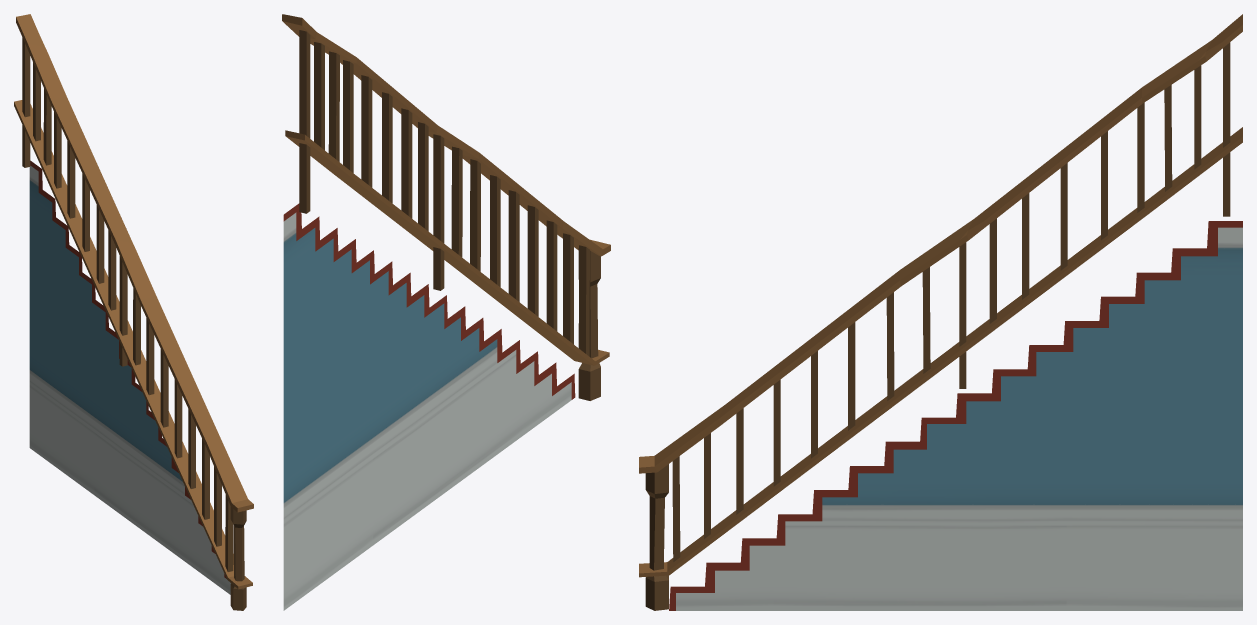
Rendered from SM_Bld_House_Interior_StairsRail_Right_01.fbx.
The picture shows the model from 3 angles, left to right: view 1: azimuth 30°, elevation 25°; view 2: azimuth 150°, elevation 25°; view 3: azimuth 270°, elevation 25°; orthographic projection. The views are drawn at different scales.
Parts seen in each view (by area): view 1: SM_Bld_House_Interior_StairsRail_Right_01; view 2: SM_Bld_House_Interior_StairsRail_Right_01; view 3: SM_Bld_House_Interior_StairsRail_Right_01.
Part boxes in pixels (x1,y1,x2,y2): SM_Bld_House_Interior_StairsRail_Right_01: (14,14,253,610); SM_Bld_House_Interior_StairsRail_Right_01: (282,14,610,610); SM_Bld_House_Interior_StairsRail_Right_01: (639,14,1242,610).
Bounding box in the file's own units: 19.1 × 452 × 421.
Materials: 1 (1 with a texture image).
